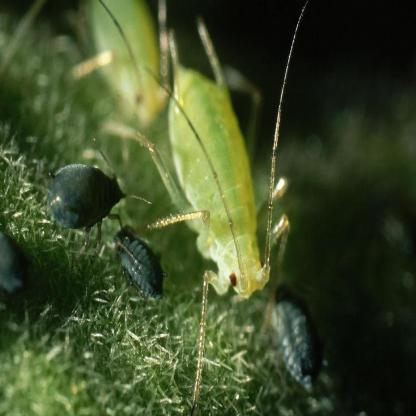aphid: (139, 43, 294, 332), (73, 0, 184, 131)
